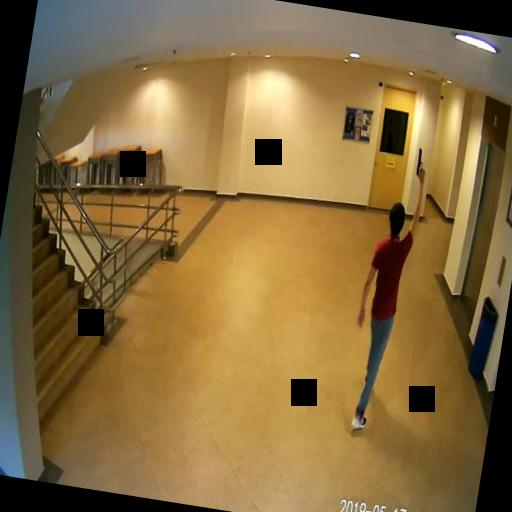Handgun: (412, 145, 428, 178)
